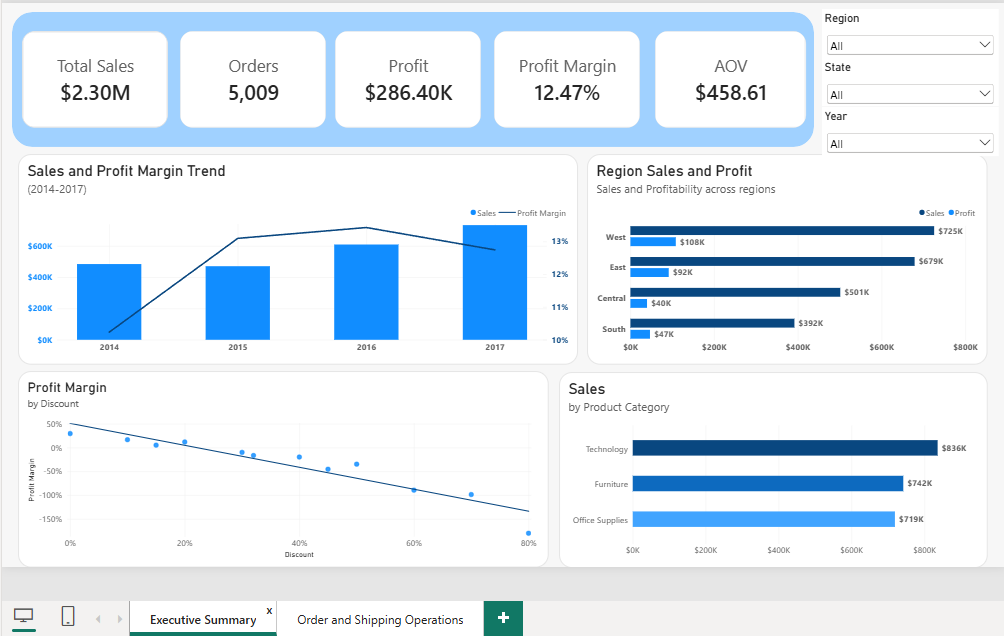

This screenshot's page, from the dashboard's own definition file:
{"tool":"powerbi","page":{"name":"Executive Summary","canvas":[1920,1080],"ordinal":0},"visuals":[{"type":"shape","box":[20,18,1533.7,258.2],"z":0},{"type":"cardVisual","fields":{"Data":["Retails Order Full Dataset.Total Sales"]},"box":[38,53.7,279.2,185.5],"z":1000},{"type":"cardVisual","fields":{"Data":["Sum(Retails Order Full Dataset.Profit)"]},"box":[636.5,53.7,279.2,185.5],"z":2000},{"type":"cardVisual","fields":{"Data":["Retails Order Full Dataset.Profit Margin"]},"box":[940.6,53.7,279.2,185.5],"z":3000},{"type":"barChart","title":"Sales ","fields":{"Category":["Retails Order Full Dataset.Category"],"Y":["Sum(Retails Order Full Dataset.Sales)"]},"box":[1064.6,705.8,820,375],"z":4000},{"type":"cardVisual","fields":{"Data":["Retails Order Full Dataset.AOV"]},"box":[1248.5,53.7,288.8,185.5],"z":5000},{"type":"clusteredBarChart","title":"Region Sales and Profit","fields":{"Category":["Retails Order Full Dataset.Region"],"Y":["Sum(Retails Order Full Dataset.Sales)","Sum(Retails Order Full Dataset.Profit)"]},"box":[1119.3,288.8,765.6,403.3],"z":6000},{"type":"lineStackedColumnComboChart","title":"Sales and Profit Margin Trend","fields":{"Category":["Retails Order Full Dataset.Year"],"Y":["Sum(Retails Order Full Dataset.Sales)"],"Y2":["Retails Order Full Dataset.Profit Margin"]},"box":[30.8,288.8,1071.5,403.3],"z":7000},{"type":"slicer","title":"State","fields":{"Values":["Retails Order Full Dataset.State"]},"box":[1568.7,106,338.4,92.3],"z":8000},{"type":"cardVisual","fields":{"Data":["Retails Order Full Dataset.Orders"]},"box":[340.1,53,279.2,185.5],"z":9000},{"type":"slicer","title":"Region","fields":{"Values":["Retails Order Full Dataset.Region"]},"box":[1568.7,12,338.4,94],"z":10000},{"type":"scatterChart","fields":{"X":["Retails Order Full Dataset.Discount"],"Y":["Retails Order Full Dataset.Profit Margin"]},"box":[30.8,704.1,1015.1,375.9],"z":11000},{"type":"slicer","title":"Year","fields":{"Values":["Retails Order Full Dataset.Year"]},"box":[1568.7,199,338.4,94],"z":12000}]}

Visuals, with their boxes on the page's 1920x1080 design canvas (x1, y1, x2, y2). These are canvas units, not pixel positions in the 1004x636 screenshot, which may show the page scaled, cropped or inside an application window:
shape: <region>20, 18, 1554, 276</region>
cardVisual - Retails Order Full Dataset.Total Sales: <region>38, 54, 317, 239</region>
cardVisual - Sum(Retails Order Full Dataset.Profit): <region>636, 54, 916, 239</region>
cardVisual - Retails Order Full Dataset.Profit Margin: <region>941, 54, 1220, 239</region>
"Sales " barChart: <region>1065, 706, 1885, 1081</region>
cardVisual - Retails Order Full Dataset.AOV: <region>1248, 54, 1537, 239</region>
"Region Sales and Profit" clusteredBarChart: <region>1119, 289, 1885, 692</region>
"Sales and Profit Margin Trend" lineStackedColumnComboChart: <region>31, 289, 1102, 692</region>
"State" slicer: <region>1569, 106, 1907, 198</region>
cardVisual - Retails Order Full Dataset.Orders: <region>340, 53, 619, 238</region>
"Region" slicer: <region>1569, 12, 1907, 106</region>
scatterChart - Retails Order Full Dataset.Discount x Retails Order Full Dataset.Profit Margin: <region>31, 704, 1046, 1080</region>
"Year" slicer: <region>1569, 199, 1907, 293</region>
